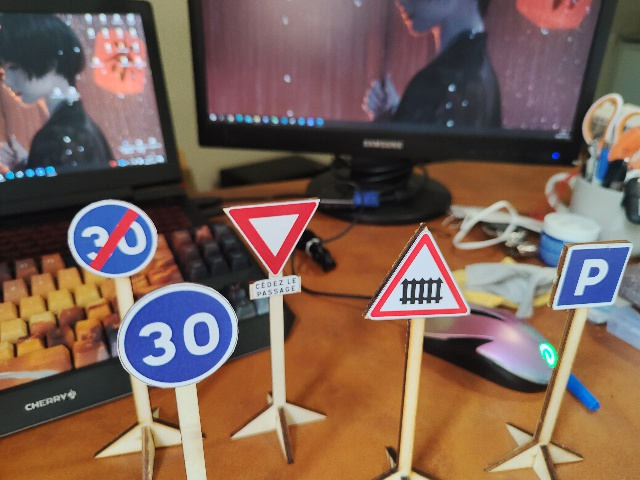P: (553, 240, 630, 310)
ban: (67, 202, 157, 276)
second: (225, 197, 318, 300)
thirty: (117, 284, 236, 388)
train: (365, 222, 472, 318)
